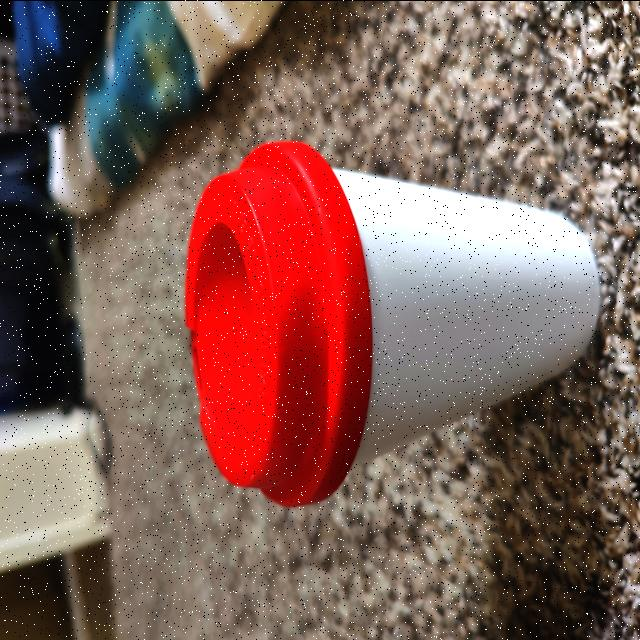mug: (198, 148, 580, 487)
